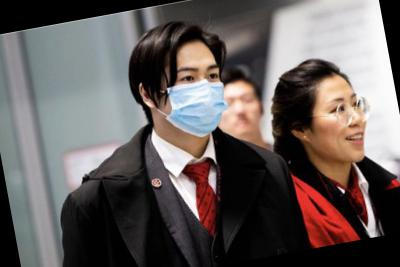with_mask: (156, 60, 234, 145)
without_mask: (305, 89, 376, 170), (215, 78, 267, 142)
